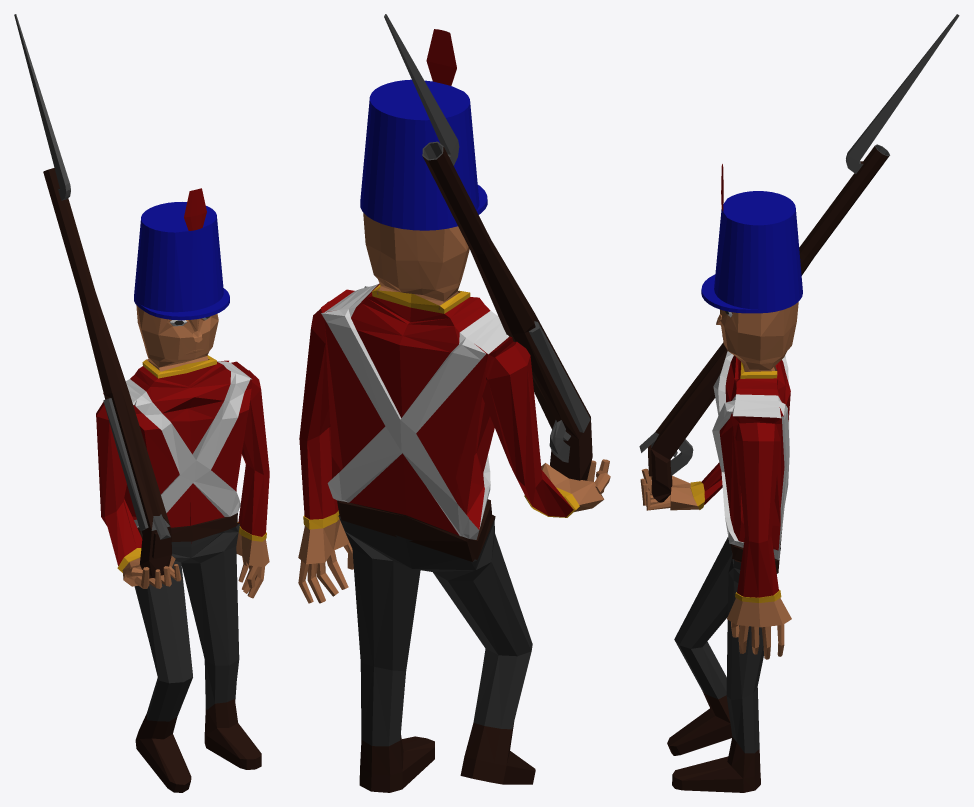
Rendered from Infantry_000163.obj.
The picture shows the model from 3 angles, left to right: view 1: azimuth 30°, elevation 25°; view 2: azimuth 150°, elevation 25°; view 3: azimuth 270°, elevation 25°; orthographic projection. The views are drawn at different scales.
Visible parts, largest first — view 1: {Man}_Circle, {Mesket}_Cube.001; view 2: {Man}_Circle, {Mesket}_Cube.001; view 3: {Man}_Circle, {Mesket}_Cube.001.
Part boxes in pixels (left/top/right/bottom): {Man}_Circle: left=96, top=188, right=269, bottom=792; {Mesket}_Cube.001: left=14, top=14, right=171, bottom=578; {Man}_Circle: left=298, top=29, right=610, bottom=792; {Mesket}_Cube.001: left=384, top=14, right=592, bottom=480; {Man}_Circle: left=640, top=164, right=802, bottom=792; {Mesket}_Cube.001: left=639, top=14, right=959, bottom=502.
Bounding box in the file's own units: 5.63 × 19.77 × 7.93.
